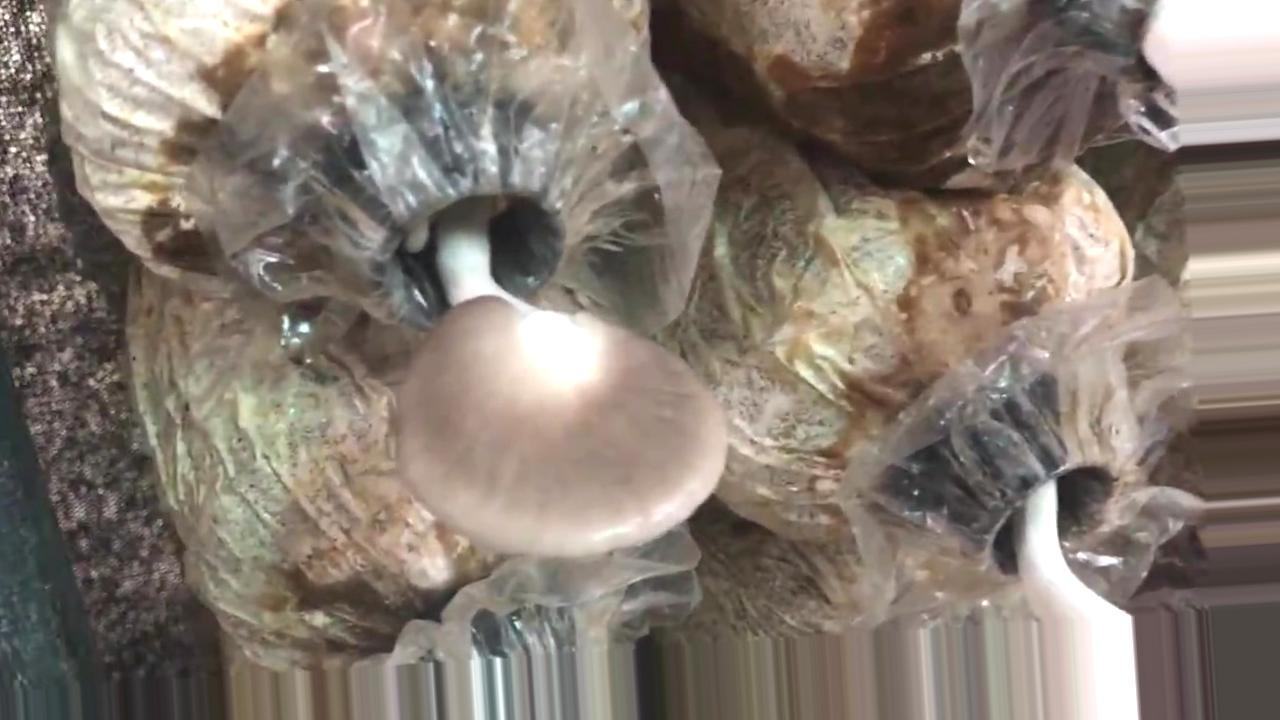nam: (309, 81, 727, 568)
